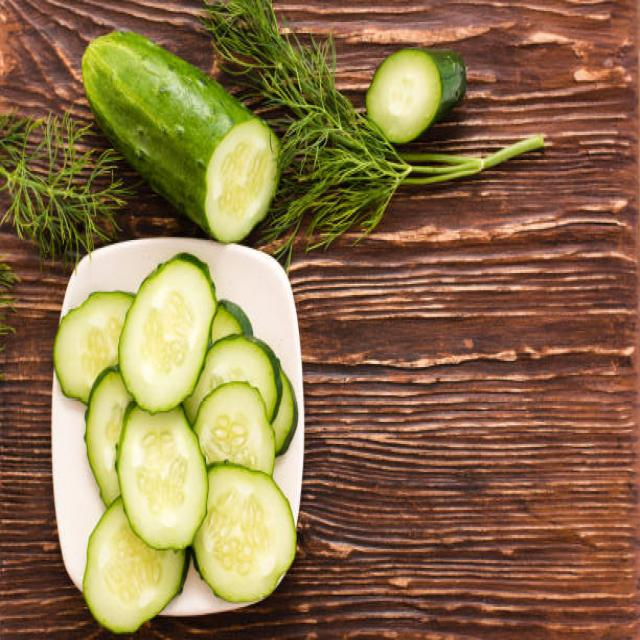cucumber: (82, 28, 280, 244)
